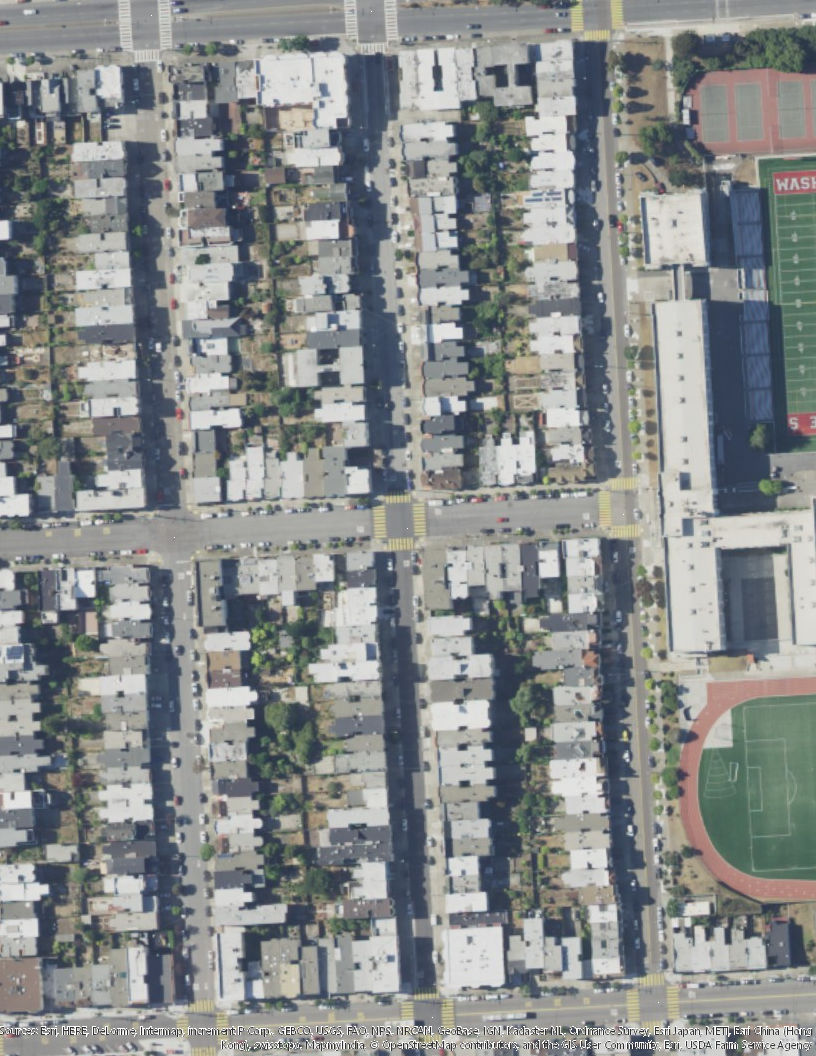zebracross: (117, 1, 136, 52), (158, 1, 175, 52), (342, 1, 361, 45), (382, 1, 402, 40), (410, 503, 430, 538), (595, 488, 612, 529), (664, 985, 683, 1021), (568, 3, 587, 34), (625, 988, 641, 1024), (372, 504, 388, 538), (609, 1, 627, 30), (133, 48, 163, 65), (579, 28, 613, 43), (610, 523, 641, 539), (410, 985, 443, 1000), (440, 998, 457, 1027), (384, 489, 413, 504), (386, 537, 414, 552), (216, 1012, 230, 1042), (609, 476, 636, 491), (636, 974, 666, 987), (189, 1000, 216, 1013), (358, 44, 388, 54), (402, 1000, 414, 1024), (178, 1013, 188, 1040), (189, 1046, 215, 1056)
